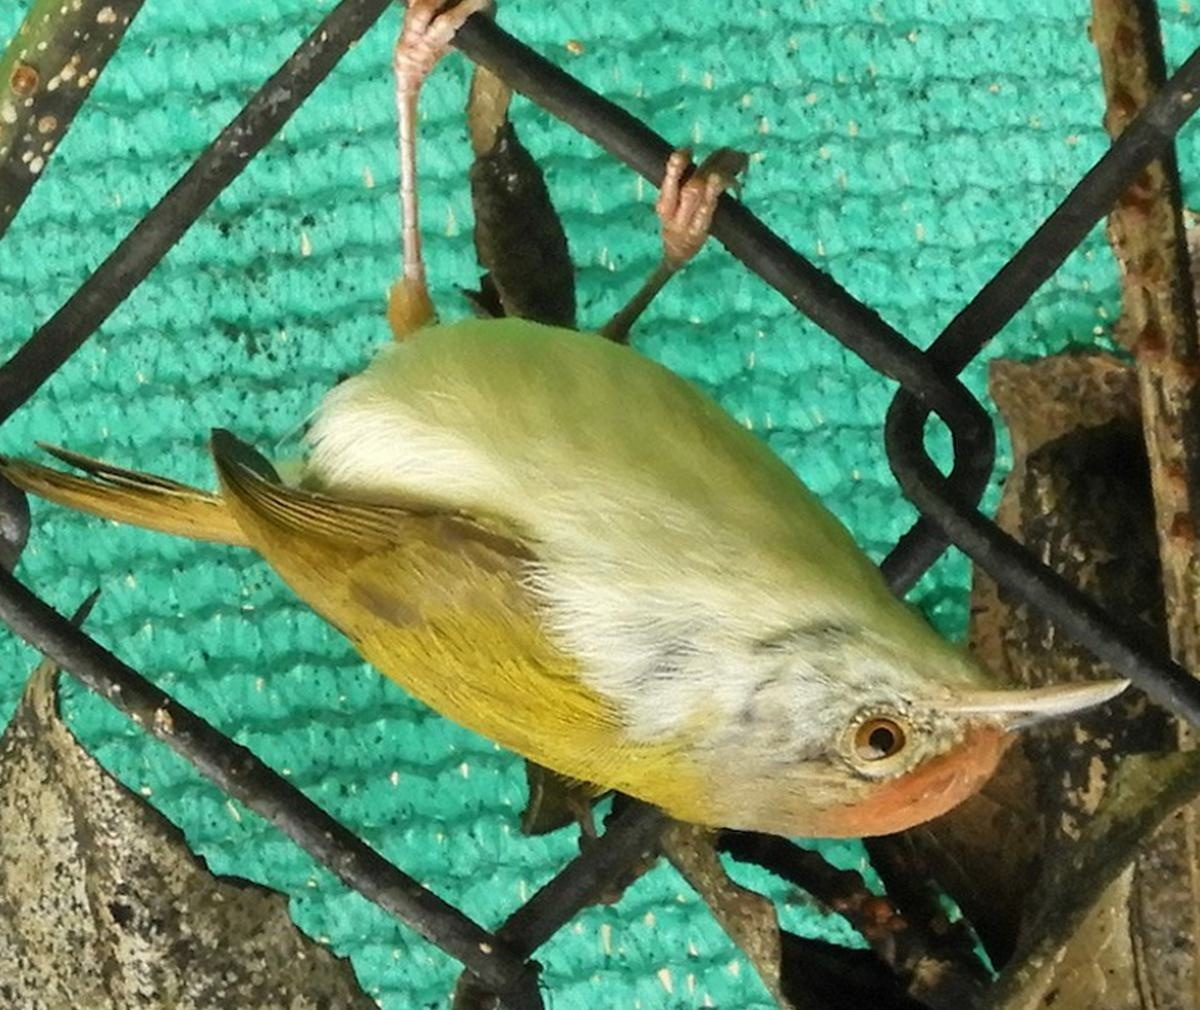tailorbird: (59, 190, 1109, 840)
